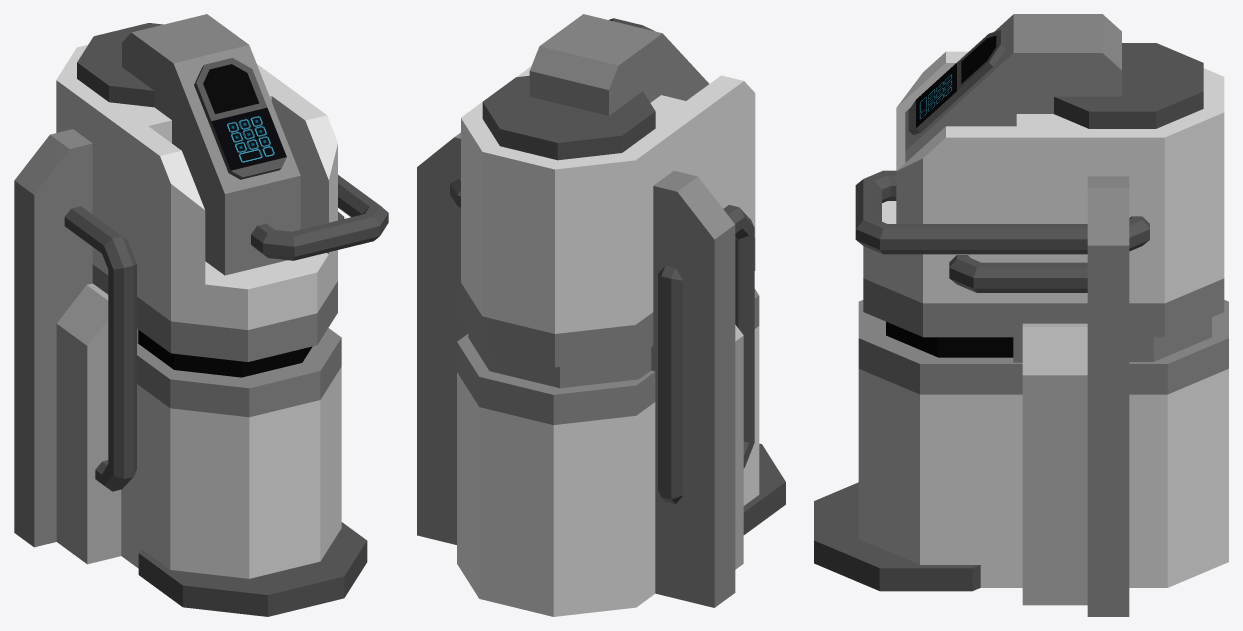
The model's file is SM_Machine_1.fbx.
3 views of the same model, side by side, from view 1: azimuth 30°, elevation 25°; view 2: azimuth 150°, elevation 25°; view 3: azimuth 270°, elevation 25° (orthographic). The views are drawn at different scales.
Parts seen in each view (by area): view 1: SM_Machine_1; view 2: SM_Machine_1; view 3: SM_Machine_1.
Boxes of the visible parts, x1,y1,x2,y2 form: SM_Machine_1: (14, 14, 388, 616); SM_Machine_1: (417, 14, 785, 616); SM_Machine_1: (814, 14, 1228, 616).
Size of the model in its own units: 88.01 by 143 by 105.
